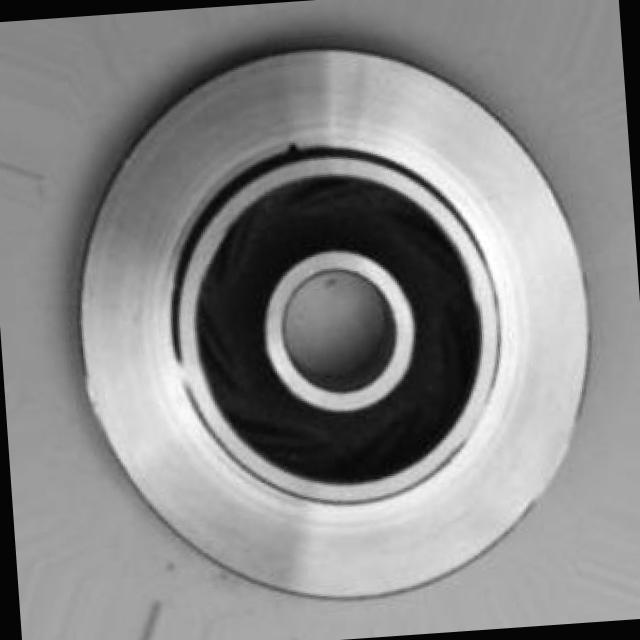Defect: (279, 134, 309, 160)
